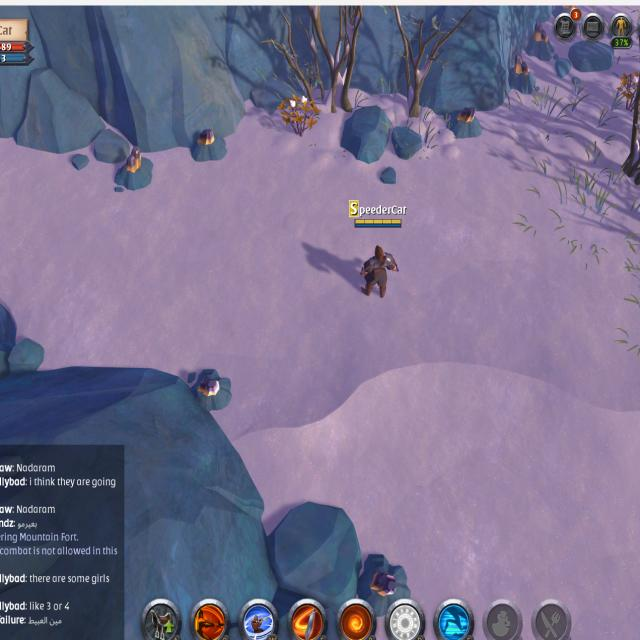copper: (358, 547, 410, 619), (186, 360, 235, 414), (110, 145, 155, 197), (188, 121, 231, 165), (446, 100, 486, 143), (505, 49, 539, 98), (527, 18, 556, 63)
cotton: (276, 89, 319, 140), (618, 72, 640, 114)
